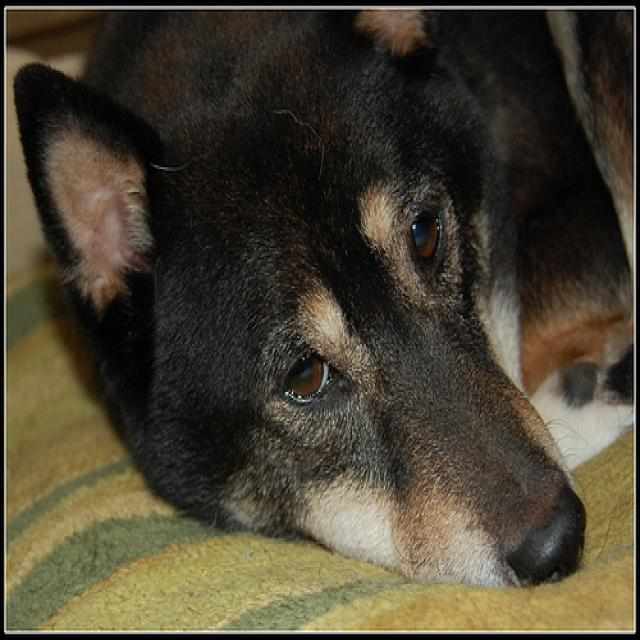dog-shiba_inu: (9, 2, 637, 596)
